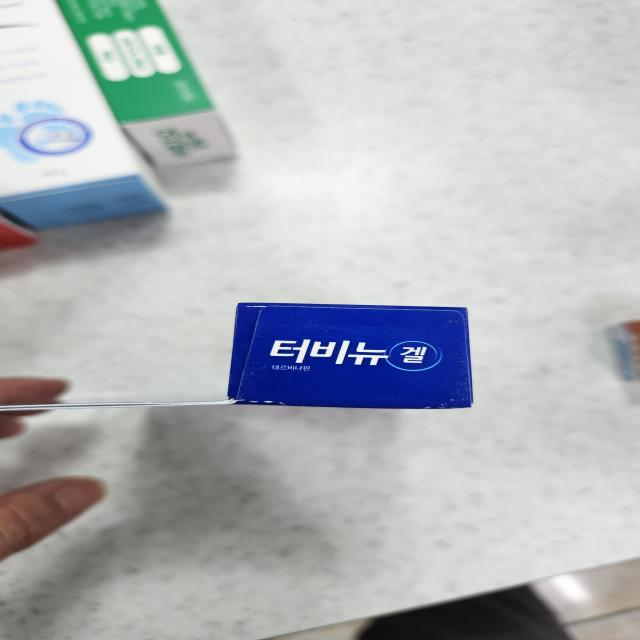box: (0, 3, 164, 232), (55, 2, 234, 165), (217, 308, 471, 411), (617, 321, 640, 378)
